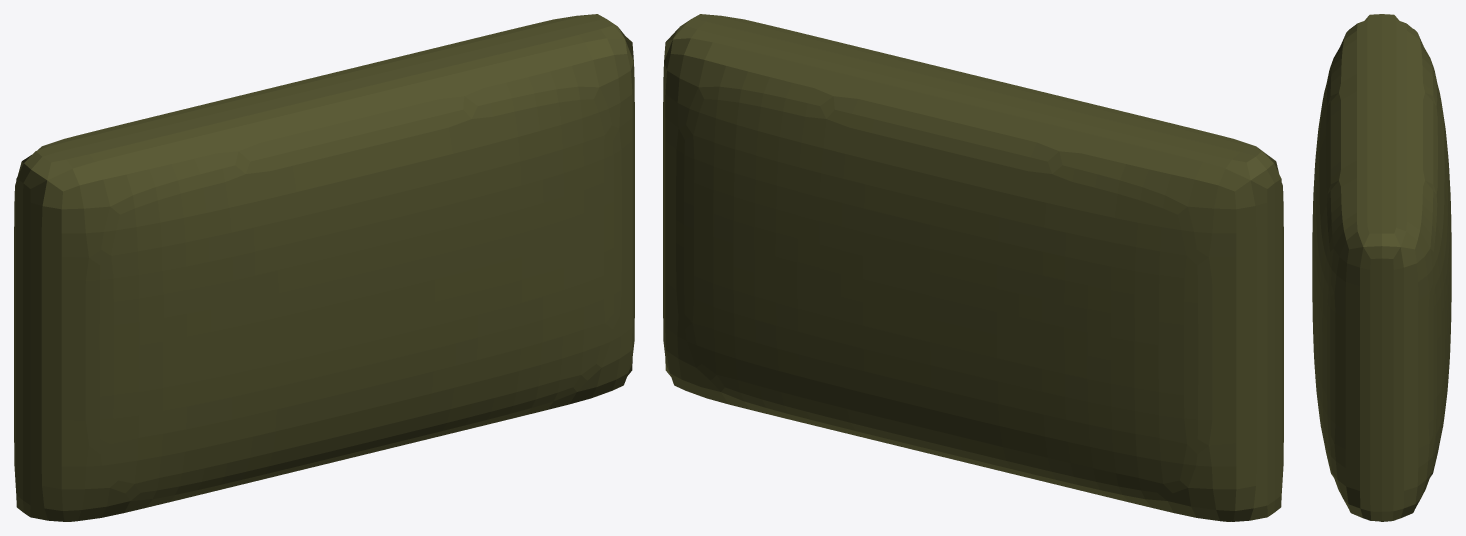
The model's file is ATL-LMB-std.glb.
The picture shows the model from 3 angles, left to right: view 1: azimuth 30°, elevation 25°; view 2: azimuth 150°, elevation 25°; view 3: azimuth 270°, elevation 25°; orthographic projection. The views are drawn at different scales.
Visible parts, largest first — view 1: pillow-lumbar:pbr; view 2: pillow-lumbar:pbr; view 3: pillow-lumbar:pbr.
Boxes of the visible parts, bbox=[...] form: pillow-lumbar:pbr: bbox=[14, 14, 634, 521]; pillow-lumbar:pbr: bbox=[663, 14, 1283, 521]; pillow-lumbar:pbr: bbox=[1312, 14, 1451, 521].
Bounding box in the file's own units: 0.5426 × 0.3135 × 0.1362.
